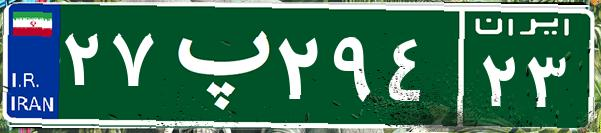2: (273, 28, 330, 110), (57, 26, 110, 107), (475, 38, 525, 113)
3: (525, 38, 570, 115)
4: (385, 28, 445, 110)
7: (110, 28, 158, 105)
9: (330, 28, 385, 110)
پ: (158, 15, 273, 115)
